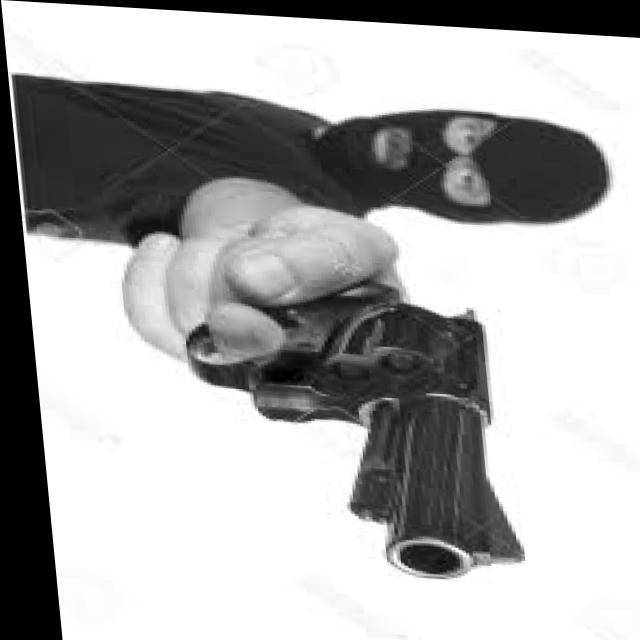handgun: (175, 252, 518, 574)
